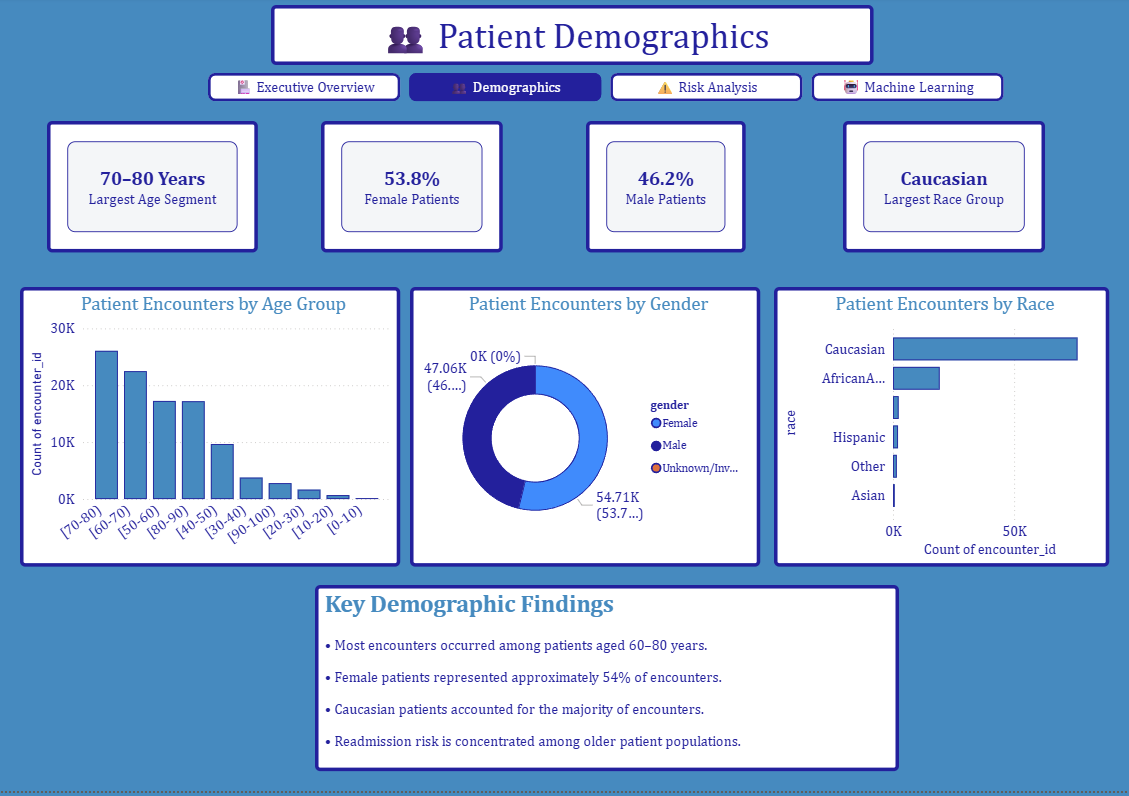

The dashboard page shown, as its layout file describes it:
{"tool":"powerbi","page":{"name":"👥 Demographics","canvas":[1280,900],"ordinal":1},"visuals":[{"type":"clusteredColumnChart","title":"Patient Encounters by Age Group","fields":{"Category":["Healthcare_Data.age"],"Y":["CountNonNull(Healthcare_Data.encounter_id)"]},"box":[23.8,328.7,430.7,317.4],"z":0},{"type":"donutChart","title":"Patient Encounters by Gender","fields":{"Category":["Healthcare_Data.gender"],"Y":["CountNonNull(Healthcare_Data.encounter_id)"]},"box":[465.9,328.7,396.7,317.4],"z":1000},{"type":"barChart","title":"Patient Encounters by Race","fields":{"Category":["Healthcare_Data.race"],"Y":["CountNonNull(Healthcare_Data.encounter_id)"]},"box":[878.5,328.7,379.7,317.4],"z":2000},{"type":"textbox","title":"👥  Patient Demographics","box":[308.1,8.9,682.9,68.4],"z":3000},{"type":"pageNavigator","box":[237.1,86.1,902.2,32.9],"z":4000},{"type":"textbox","title":"Key Demographic Findings","box":[358.2,666.5,662,210.8],"z":4001},{"type":"cardVisual","title":"Average Age Group","fields":{"Data":["Healthcare_Data.Largest Age Segment"]},"box":[54.4,141,239.1,149],"z":4002},{"type":"cardVisual","title":"Average Age Group","fields":{"Data":["Healthcare_Data.Female %"]},"box":[364.9,141,206.1,149],"z":4003},{"type":"cardVisual","title":"Average Age Group","fields":{"Data":["Healthcare_Data.Male %"]},"box":[665.6,141,181.1,149],"z":4004},{"type":"cardVisual","title":"Average Age Group","fields":{"Data":["Healthcare_Data.Largest Race"]},"box":[956.5,141,229.3,149],"z":4005}]}

Visuals, with their boxes in screenshot pixels (x1, y1, x2, y2), scaled from the page's 1280x900 canvas onto the 1129x796 screenshot:
"Patient Encounters by Age Group" clusteredColumnChart: 21 291 401 571
"Patient Encounters by Gender" donutChart: 411 291 761 571
"Patient Encounters by Race" barChart: 775 291 1110 571
"👥  Patient Demographics" textbox: 272 8 874 68
pageNavigator: 209 76 1005 105
"Key Demographic Findings" textbox: 316 589 900 776
"Average Age Group" cardVisual: 48 125 259 256
"Average Age Group" cardVisual: 322 125 504 256
"Average Age Group" cardVisual: 587 125 747 256
"Average Age Group" cardVisual: 844 125 1046 256
